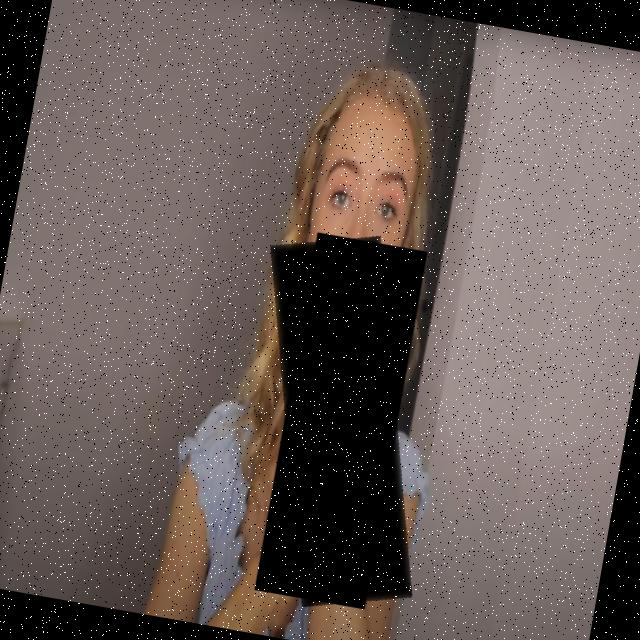S: (232, 225, 451, 618)
